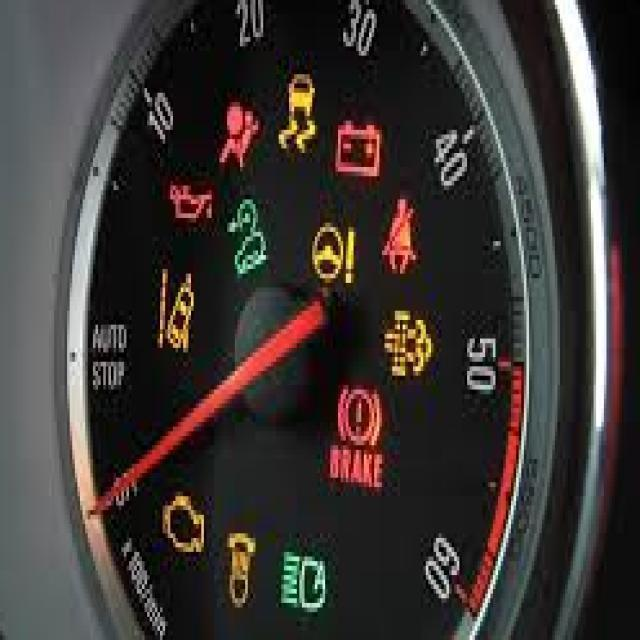Electronic Power Steering: (308, 225, 358, 285)
Seat Belt: (381, 199, 415, 270)
